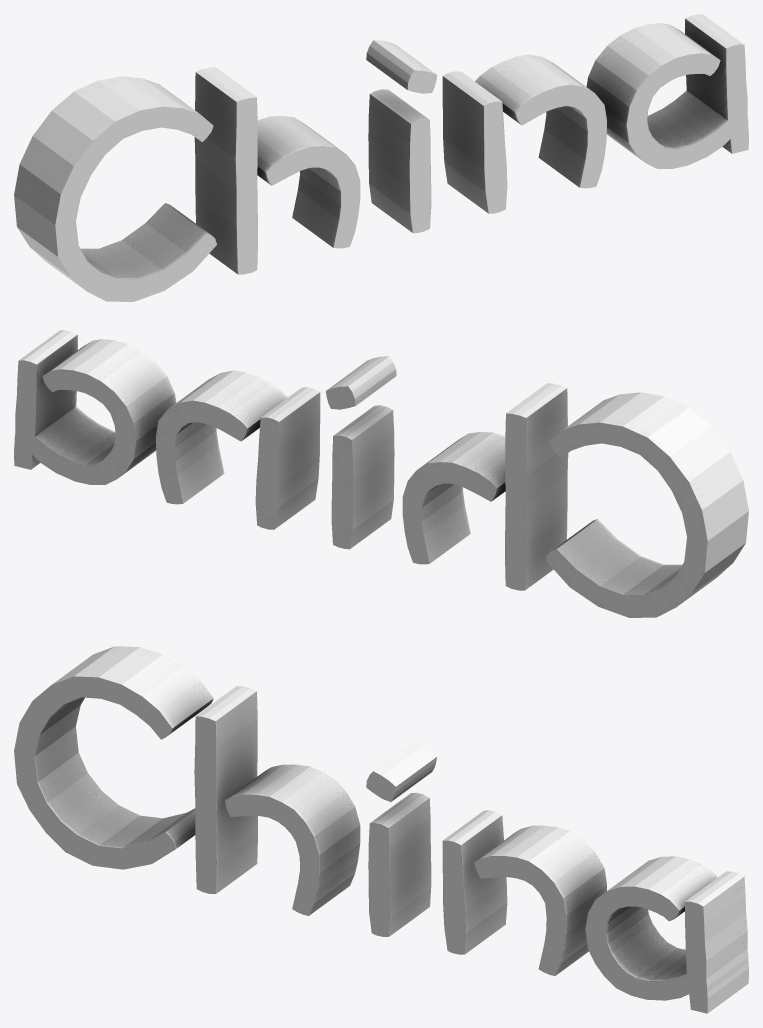
File: china [en].DAE
The picture shows the model from 3 angles, top to bottom: view 1: azimuth 30°, elevation 25°; view 2: azimuth 150°, elevation 25°; view 3: azimuth 330°, elevation 25°; orthographic projection.
Visible parts, largest first — view 1: objpolymsh3; view 2: objpolymsh3; view 3: objpolymsh3.
Part boxes in pixels (box(x1,y1,x2,y2)): objpolymsh3: box(14, 14, 748, 301); objpolymsh3: box(14, 330, 748, 617); objpolymsh3: box(14, 646, 748, 1013).
Size of the model in its own units: 8.3 by 0.8551 by 2.18.
Materials: 1 (1 with a texture image).
